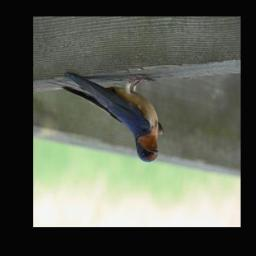Swallow: (44, 70, 164, 165)
